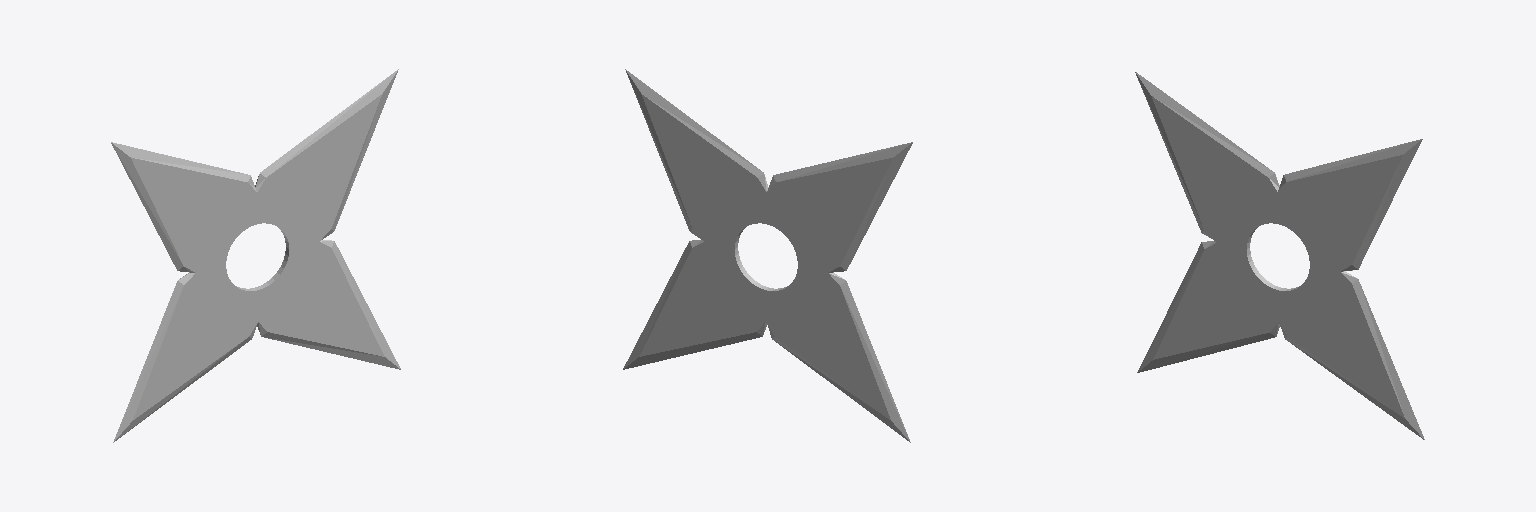
Rendered from shuriken.obj.
3 renders of one model, left to right at view 1: azimuth 30°, elevation 25°; view 2: azimuth 150°, elevation 25°; view 3: azimuth 330°, elevation 25°, orthographic.
Visible parts, largest first — view 1: Shuriken4a_default; view 2: Shuriken4a_default; view 3: Shuriken4a_default.
Boxes of the visible parts, x1=… form: Shuriken4a_default: x1=111, y1=69, x2=400, y2=442; Shuriken4a_default: x1=623, y1=69, x2=912, y2=442; Shuriken4a_default: x1=1135, y1=72, x2=1424, y2=439.
Bounding box in the file's own units: 2.31 × 2.31 × 0.0475.